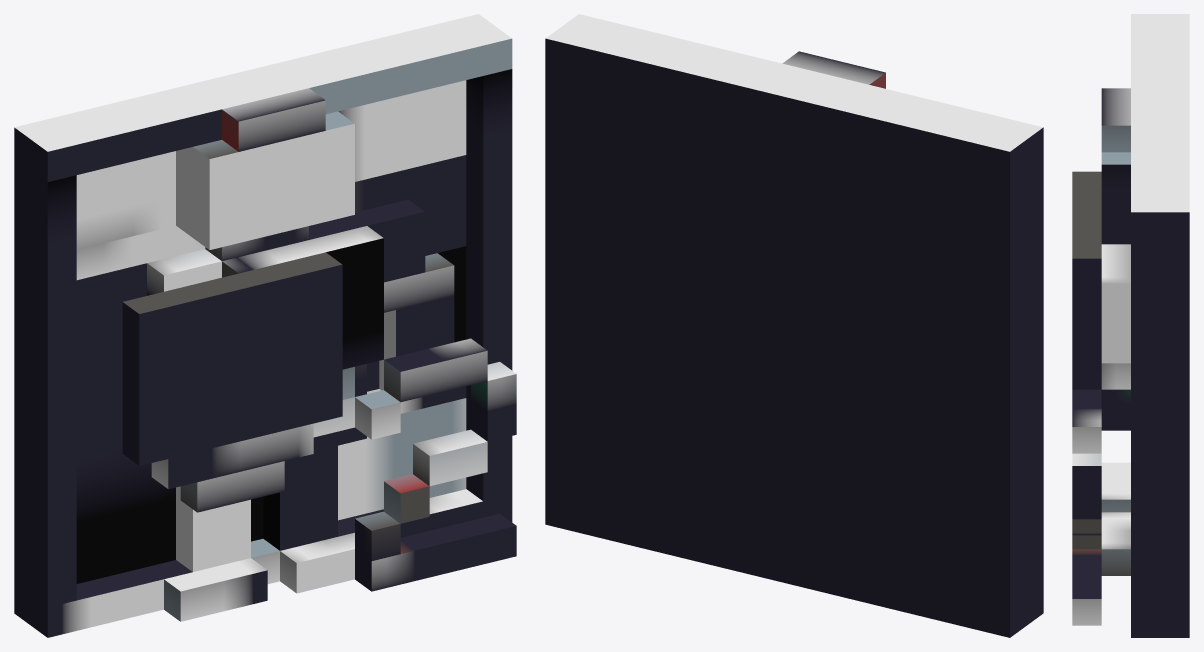
File: hero2.fbx
3 views of the same model, side by side, from view 1: azimuth 30°, elevation 25°; view 2: azimuth 150°, elevation 25°; view 3: azimuth 270°, elevation 25° (orthographic). The views are drawn at different scales.
Visible parts, largest first — view 1: hero2; view 2: hero2; view 3: hero2.
Boxes of the visible parts, left/top/right/bottom form: hero2: left=14, top=14, right=516, bottom=637; hero2: left=545, top=14, right=1043, bottom=637; hero2: left=1072, top=14, right=1189, bottom=637.
Bounding box in the file's own units: 16 × 16 × 4.
